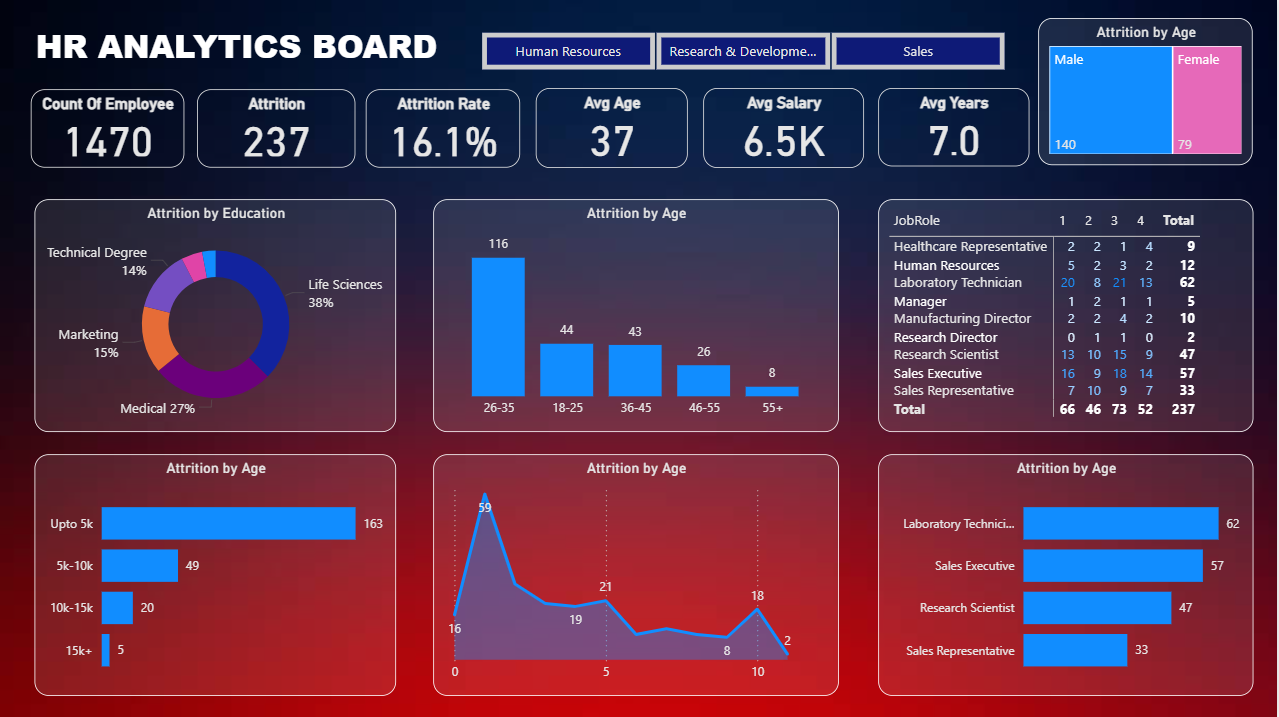

The dashboard page shown, as its layout file describes it:
{"tool":"powerbi","page":{"name":"Page 1","canvas":[1280,720],"ordinal":0},"visuals":[{"type":"card","title":"Count Of Employee","fields":{"Values":["CountNonNull(HR_Analytics.EmpID)"]},"box":[33.8,90.5,161.7,91.7],"z":0},{"type":"card","title":"Attrition","fields":{"Values":["Sum(HR_Analytics.AttritionCount)"]},"box":[206.3,90.5,144.8,90.5],"z":1000},{"type":"card","title":"Attrition Rate ","fields":{"Values":["HR_Analytics.AttritionRate"]},"box":[358.3,91.7,158,90.5],"z":2000},{"type":"card","title":"Avg Age","fields":{"Values":["Avg(HR_Analytics.Age)"]},"box":[524.8,91.7,166.5,91.7],"z":3000},{"type":"card","title":"Avg Salary","fields":{"Values":["Avg(HR_Analytics.MonthlyIncome)"]},"box":[702.1,90.5,165.3,91.7],"z":4000},{"type":"card","title":"Avg Years","fields":{"Values":["Avg(HR_Analytics.YearsAtCompany)"]},"box":[880.7,89.3,150.8,91.7],"z":5000},{"type":"donutChart","title":"Attrition by Education","fields":{"Category":["HR_Analytics.EducationField"],"Y":["Sum(HR_Analytics.AttritionCount)"]},"box":[37.4,201.5,361.9,232.8],"z":6000},{"type":"columnChart","title":"Attrition by Age","fields":{"Category":["HR_Analytics.AgeGroup"],"Y":["Sum(HR_Analytics.AttritionCount)"]},"box":[436.7,201.5,405.4,232.8],"z":7000},{"type":"pivotTable","fields":{"Rows":["HR_Analytics.JobRole"],"Columns":["HR_Analytics.JobSatisfaction"],"Values":["Sum(HR_Analytics.AttritionCount)"]},"box":[880.7,201.5,375.2,232.8],"z":8000},{"type":"clusteredBarChart","title":"Attrition by Age","fields":{"Category":["HR_Analytics.SalarySlab"],"Y":["Sum(HR_Analytics.AttritionCount)"]},"box":[37.4,456,361.9,241.3],"z":9000},{"type":"clusteredBarChart","title":"Attrition by Age","fields":{"Category":["HR_Analytics.JobRole"],"Y":["Sum(HR_Analytics.AttritionCount)"]},"box":[880.7,456,375.2,241.3],"z":10000},{"type":"areaChart","title":"Attrition by Age","fields":{"Category":["HR_Analytics.YearsAtCompany"],"Y":["Sum(HR_Analytics.AttritionCount)"]},"box":[436.7,456,405.4,241.3],"z":11000},{"type":"treemap","title":"Attrition by Age","fields":{"Group":["HR_Analytics.Gender"],"Values":["Sum(HR_Analytics.AttritionCount)"]},"box":[1041.2,20.5,214.7,147.2],"z":12000},{"type":"slicer","fields":{"Values":["HR_Analytics.Department"]},"box":[458.4,27.7,573.1,50.7],"z":13000},{"type":"textbox","box":[33.8,20.5,429.5,57.9],"z":14000}]}

Visuals, with their boxes in screenshot pixels (x1, y1, x2, y2), scaled from the page's 1280x720 canvas onto the 1279x717 screenshot:
"Count Of Employee" card: rect(34, 90, 195, 181)
"Attrition" card: rect(206, 90, 351, 180)
"Attrition Rate " card: rect(358, 91, 516, 181)
"Avg Age" card: rect(524, 91, 691, 183)
"Avg Salary" card: rect(702, 90, 867, 181)
"Avg Years" card: rect(880, 89, 1031, 180)
"Attrition by Education" donutChart: rect(37, 201, 399, 432)
"Attrition by Age" columnChart: rect(436, 201, 841, 432)
pivotTable - HR_Analytics.JobRole x HR_Analytics.JobSatisfaction: rect(880, 201, 1255, 432)
"Attrition by Age" clusteredBarChart: rect(37, 454, 399, 694)
"Attrition by Age" clusteredBarChart: rect(880, 454, 1255, 694)
"Attrition by Age" areaChart: rect(436, 454, 841, 694)
"Attrition by Age" treemap: rect(1040, 20, 1255, 167)
slicer - HR_Analytics.Department: rect(458, 28, 1031, 78)
textbox: rect(34, 20, 463, 78)
